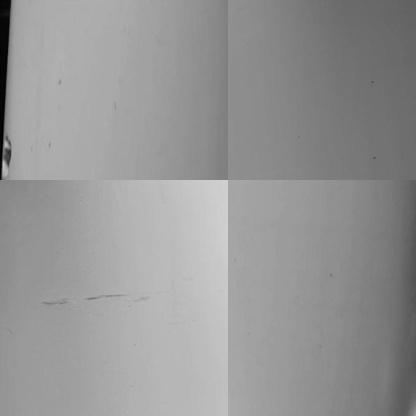kongdong: (1, 137, 17, 176)
